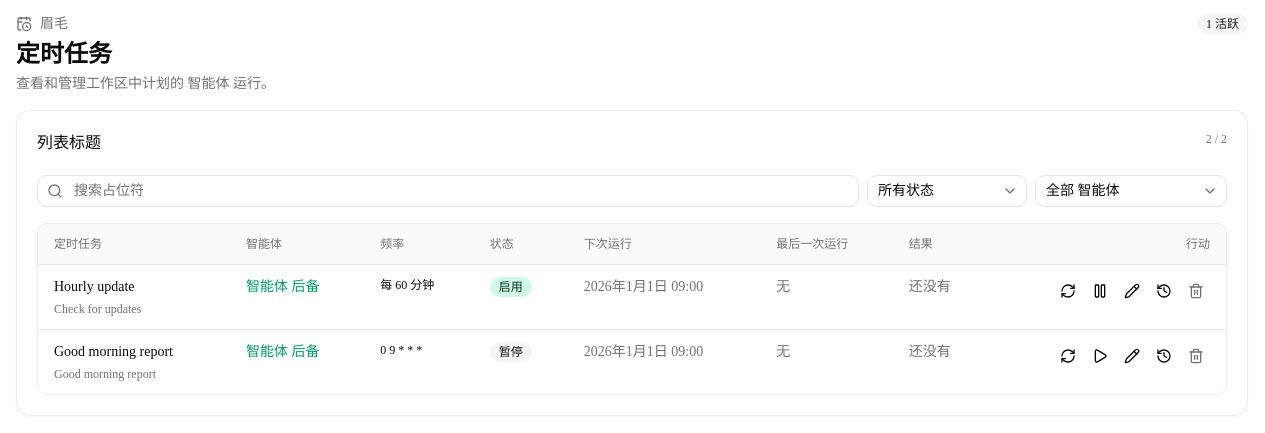
Test: SchedulesPage › filters schedules by search query
The image size is (1265, 433).
In the field with placeholder "搜索占位符": (448,191) [37,175,859,207], type "morning"
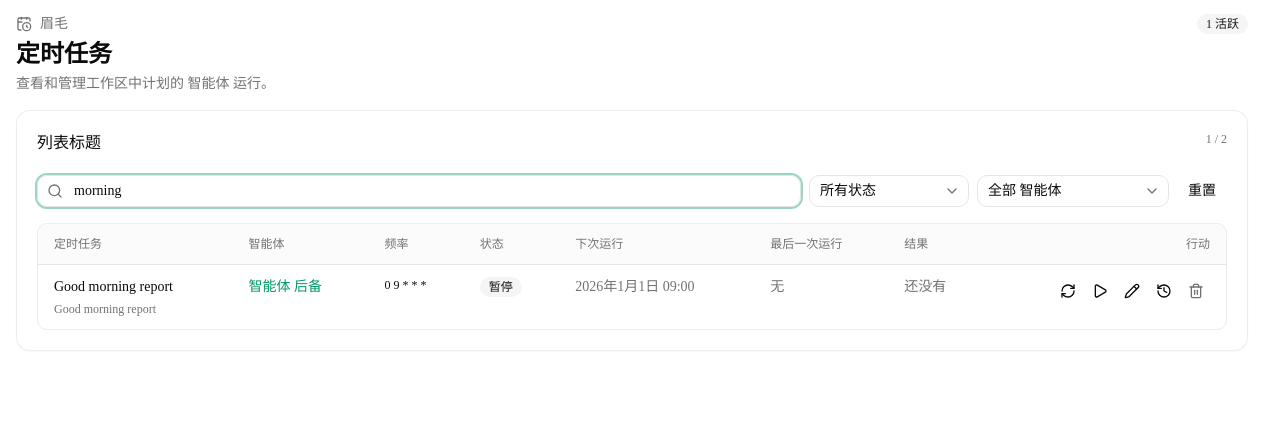
Expected: the 1st text "Good morning report" is shown, [54,279,173,294]
Expected: the text "Hourly update" is gone
